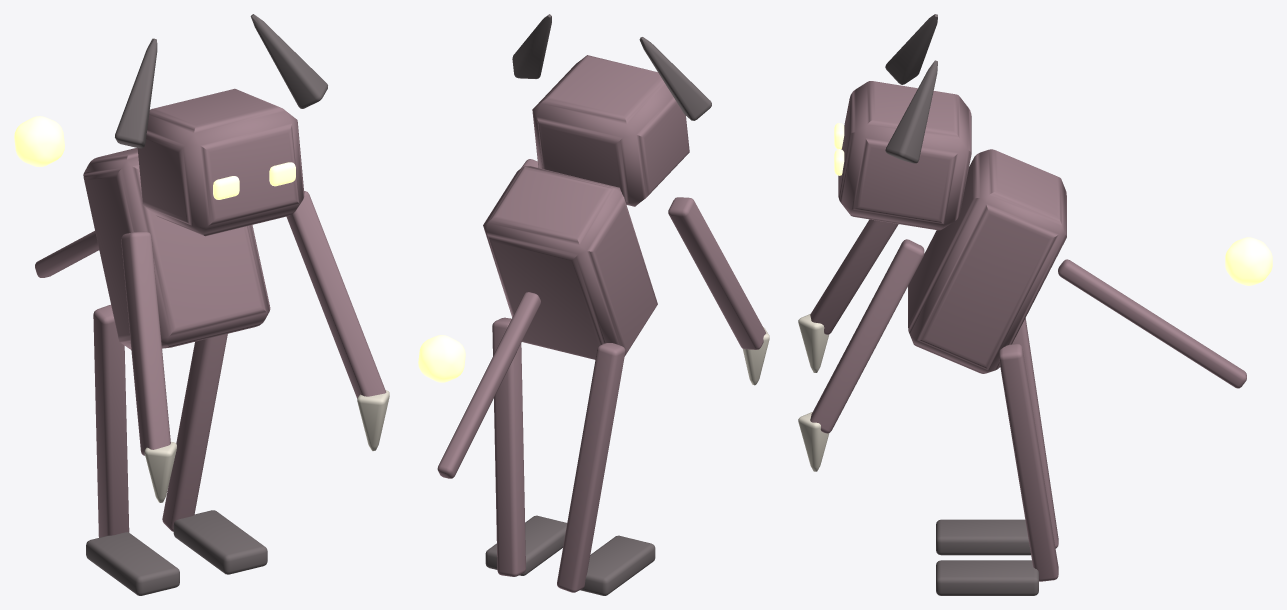
Rendered from EN_Ember_AshImp_S.fbx.
3 renders of one model, left to right at view 1: azimuth 30°, elevation 25°; view 2: azimuth 150°, elevation 25°; view 3: azimuth 270°, elevation 25°, orthographic. The views are drawn at different scales.
Visible parts, largest first — view 1: EN_Ember_AshImp_S; view 2: EN_Ember_AshImp_S; view 3: EN_Ember_AshImp_S.
Boxes of the visible parts, x1,y1,x2,y2 form: EN_Ember_AshImp_S: [14, 14, 389, 595]; EN_Ember_AshImp_S: [418, 14, 769, 595]; EN_Ember_AshImp_S: [798, 14, 1272, 595].
Size of the model in its own units: 0.7793 by 1.7 by 1.38.
